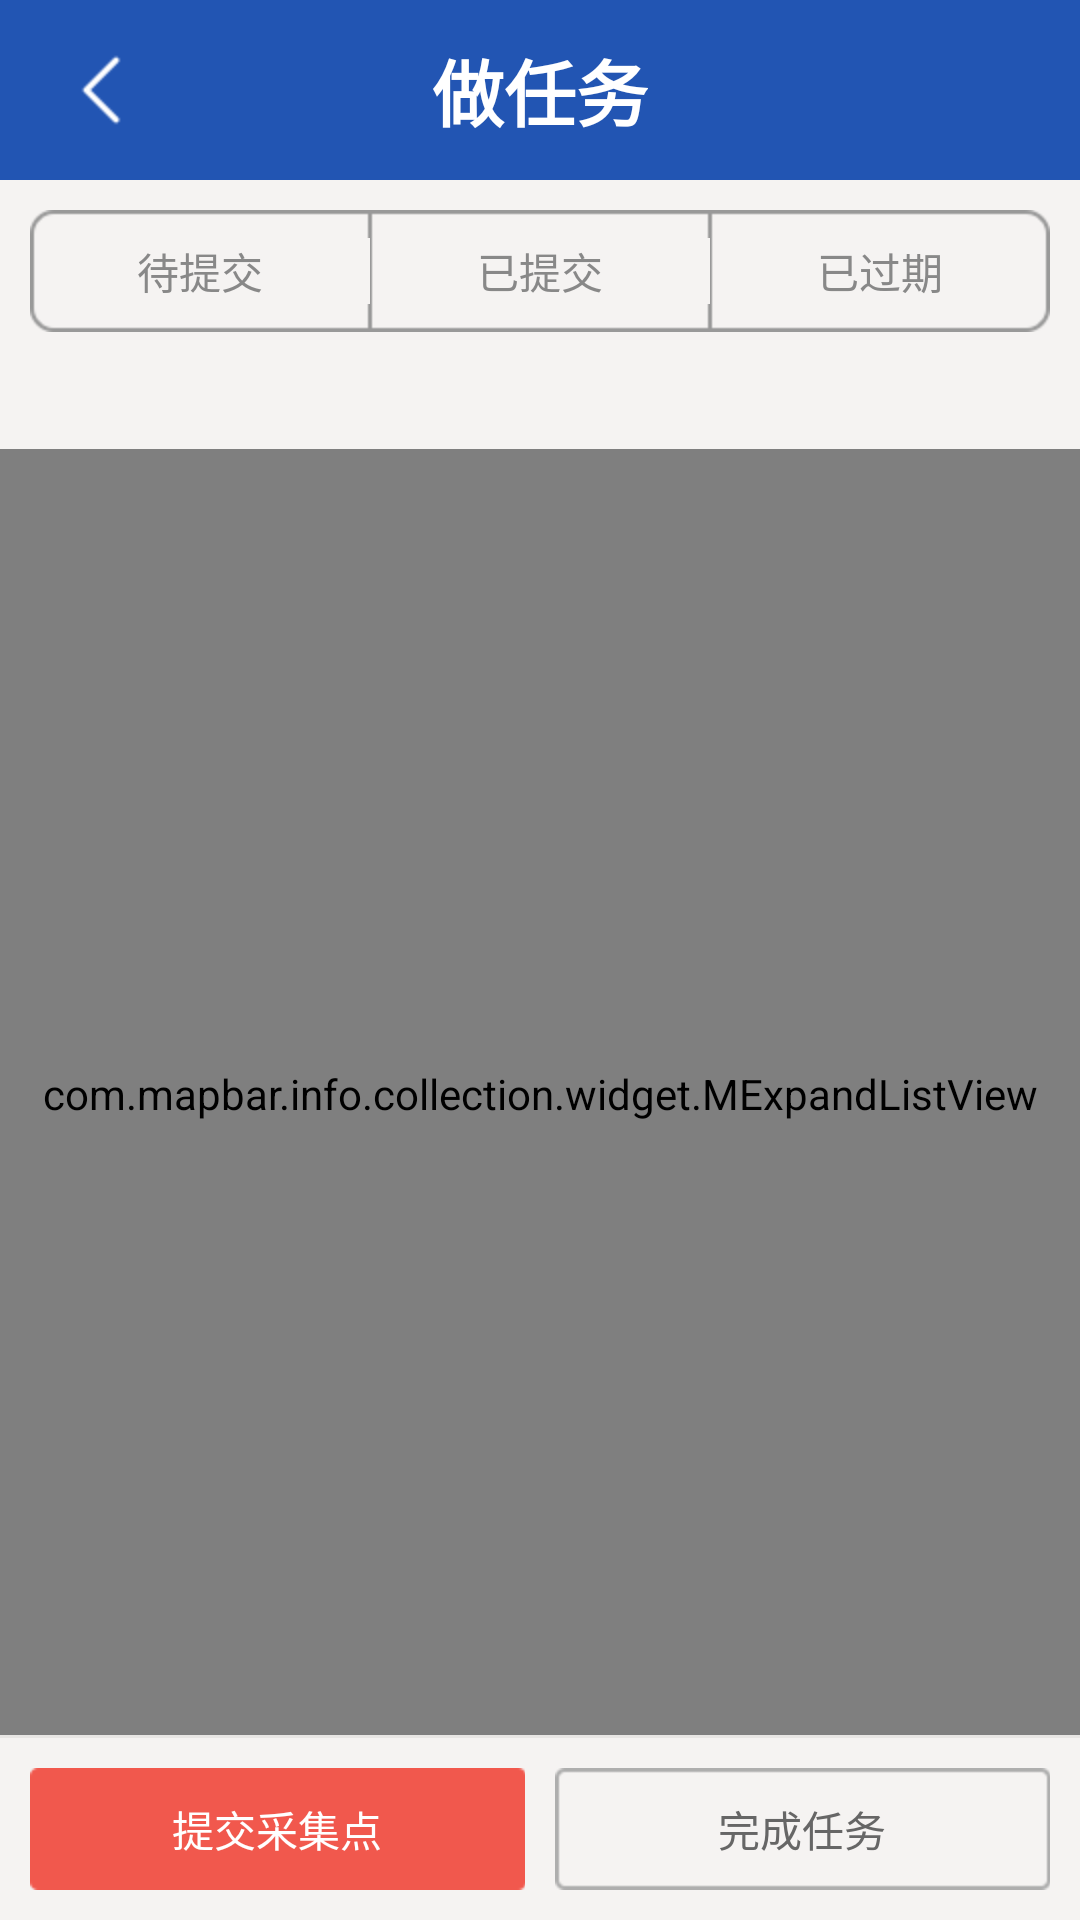

Locate icon controls on the screen. Image size 1080px x 1920px, boxes as (x1, y1, x2, y2).
back: (82, 56, 120, 124)
